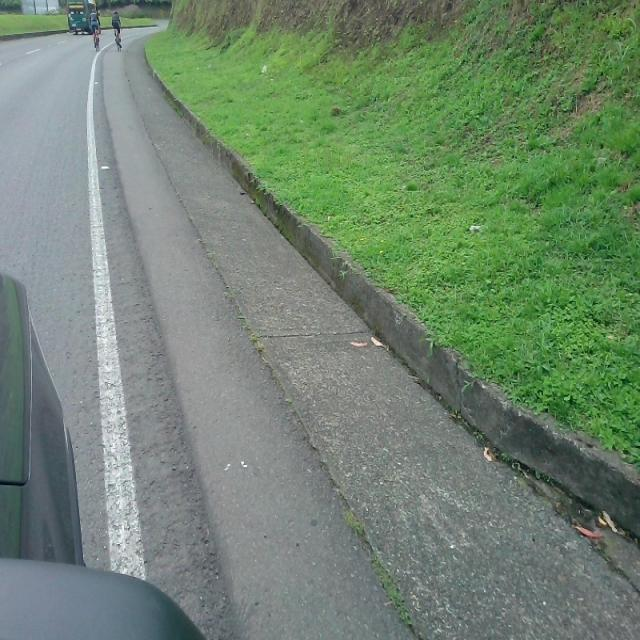DITCH: (92, 19, 638, 637)
